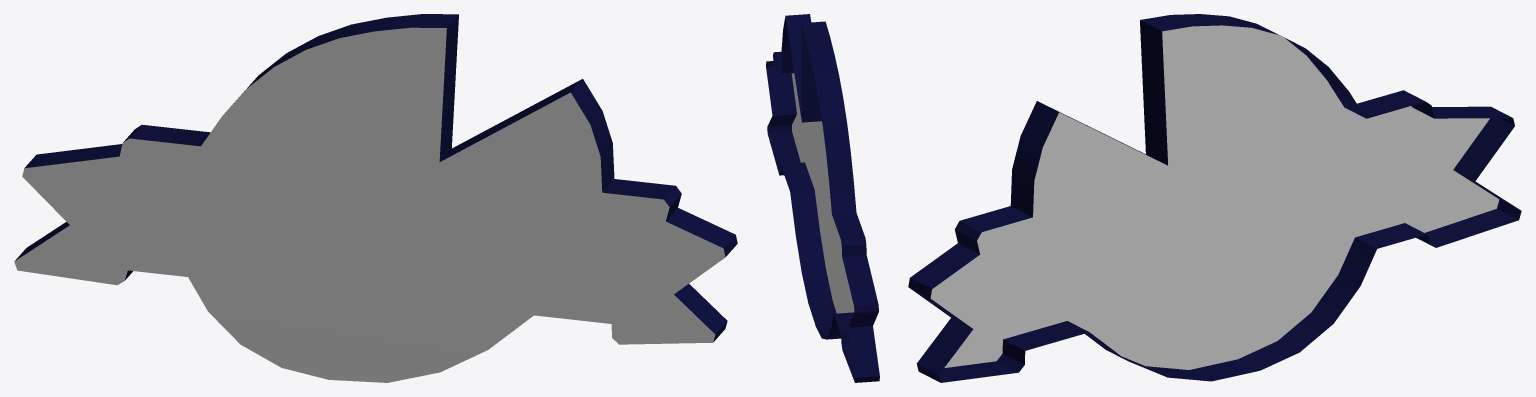
File: RestaurantSign.fbx
3 renders of one model, left to right at view 1: azimuth 30°, elevation 25°; view 2: azimuth 150°, elevation 25°; view 3: azimuth 270°, elevation 25°, orthographic. The views are drawn at different scales.
Visible parts, largest first — view 1: RestaurantSign; view 2: RestaurantSign; view 3: RestaurantSign.
Part boxes in pixels (x1,y1,x2,y2): RestaurantSign: (14,14,737,382); RestaurantSign: (766,14,879,382); RestaurantSign: (908,14,1521,382).
Size of the model in its own units: 272 by 219 by 325.
